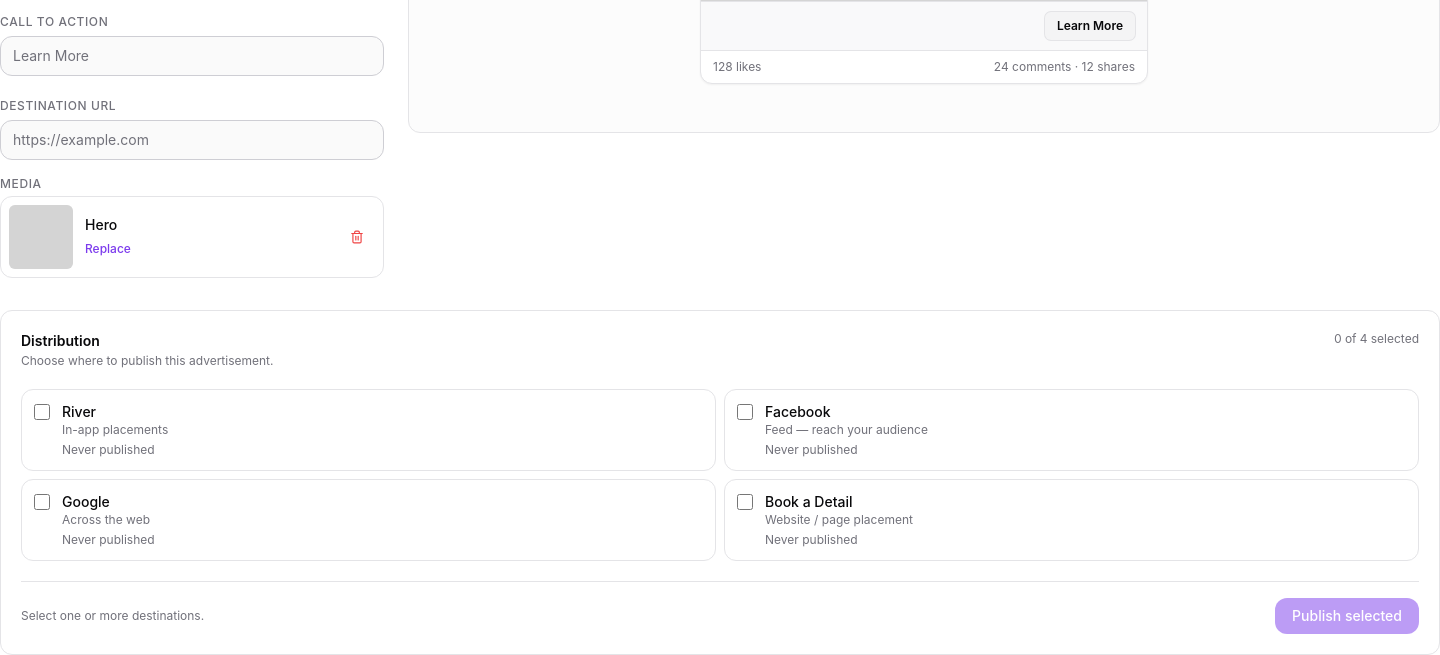
Test: AdPage › offers to connect the platform instead of a mysterious pseudo-send when disconnected
The image size is (1440, 655).
(page scrolled)
Click the checkbox labelled "Facebook": {"x": 745, "y": 412} [737, 404, 753, 420]
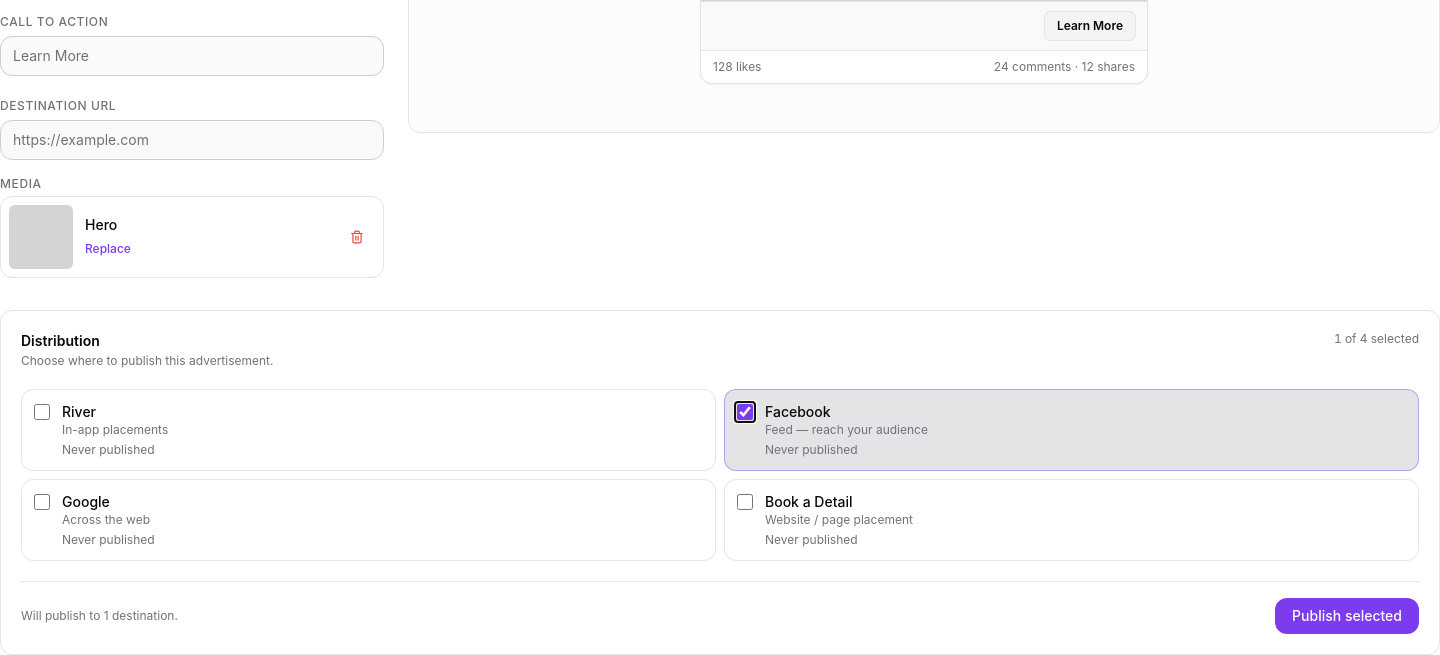
Click the button "Publish selected": {"x": 1347, "y": 616} [1275, 598, 1419, 634]
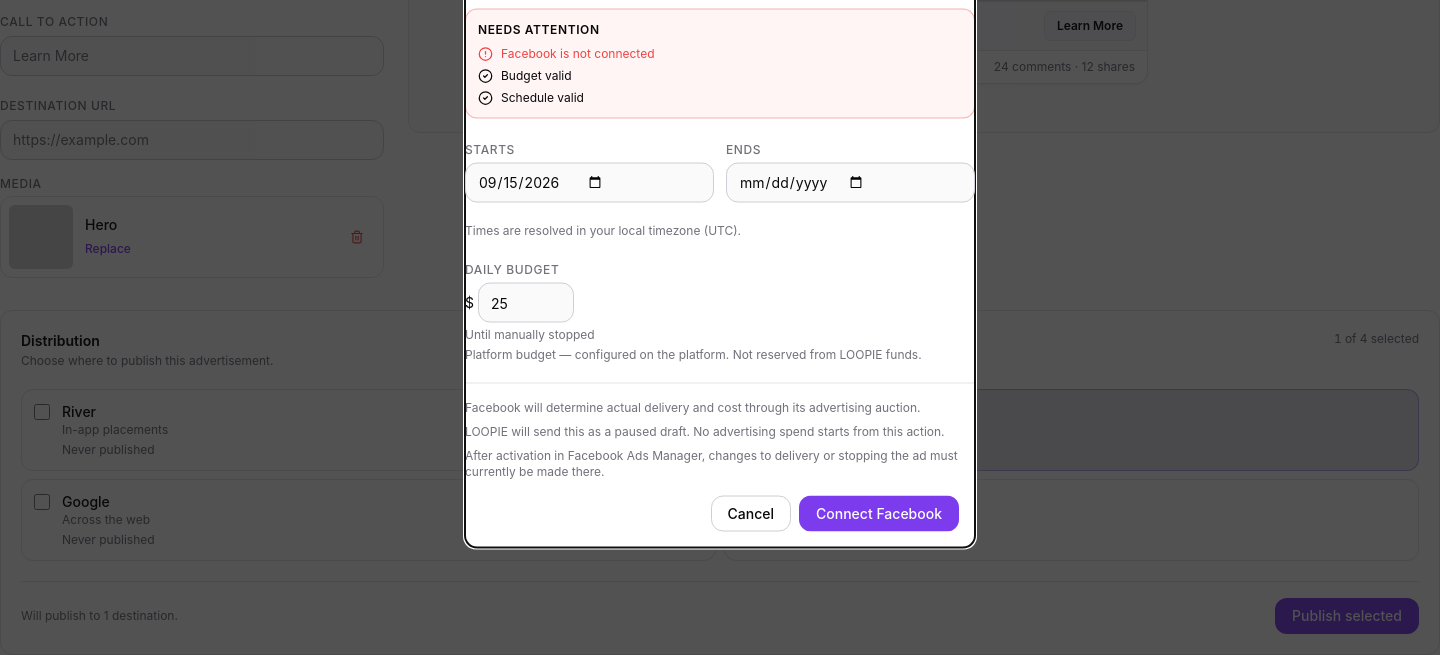
Expected: the text "Facebook is not connected" is shown, [501, 46, 654, 62]
Expected: the button "Connect Facebook" is shown, [799, 496, 959, 532]
